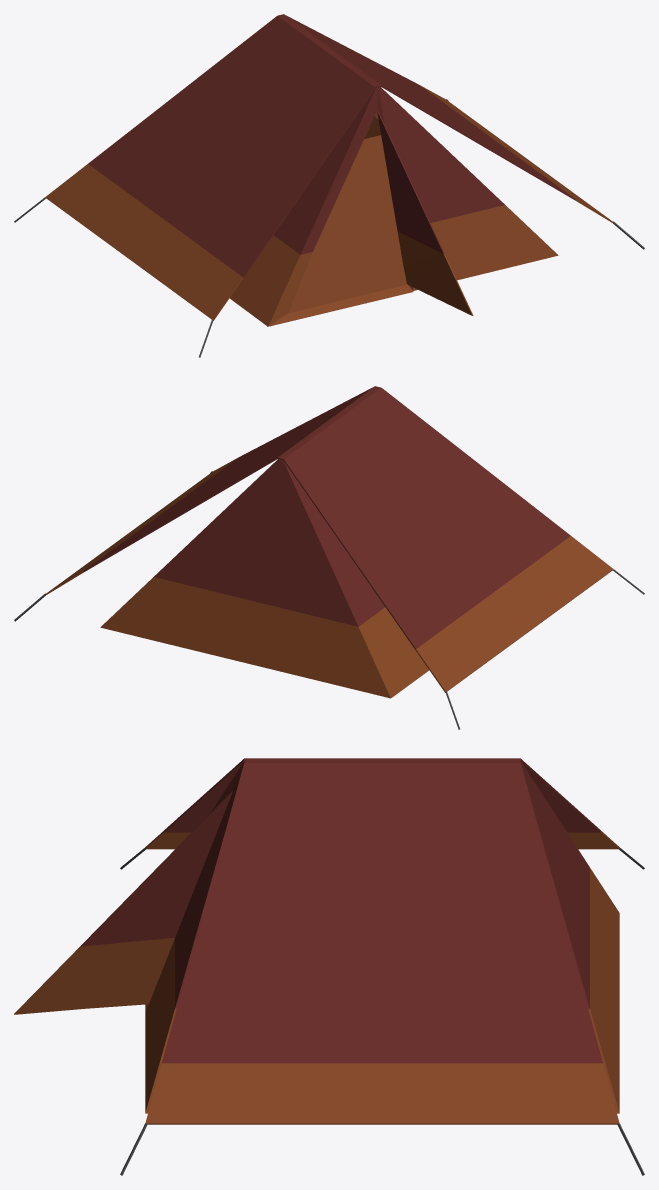
The model's file is Tent.fbx.
3 views of the same model, one above another, from view 1: azimuth 30°, elevation 25°; view 2: azimuth 150°, elevation 25°; view 3: azimuth 270°, elevation 25° (orthographic). The views are drawn at different scales.
Visible parts, largest first — view 1: Cube; view 2: Cube; view 3: Cube.
Boxes of the visible parts, x1,y1,x2,y2 form: Cube: [45, 14, 613, 326]; Cube: [45, 386, 613, 698]; Cube: [14, 758, 619, 1124].
Size of the model in its own units: 421 by 167 by 365.
